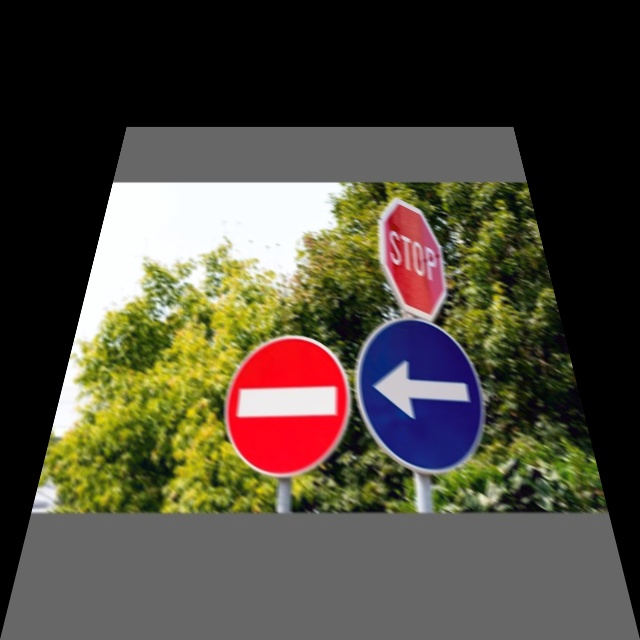Compulsory_Turn_Left: (354, 313, 496, 476)
